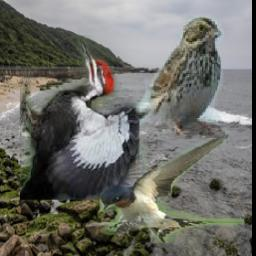Sparrow: (120, 13, 225, 139)
Swallow: (101, 130, 245, 243)
Woodpecker: (20, 36, 139, 201)
